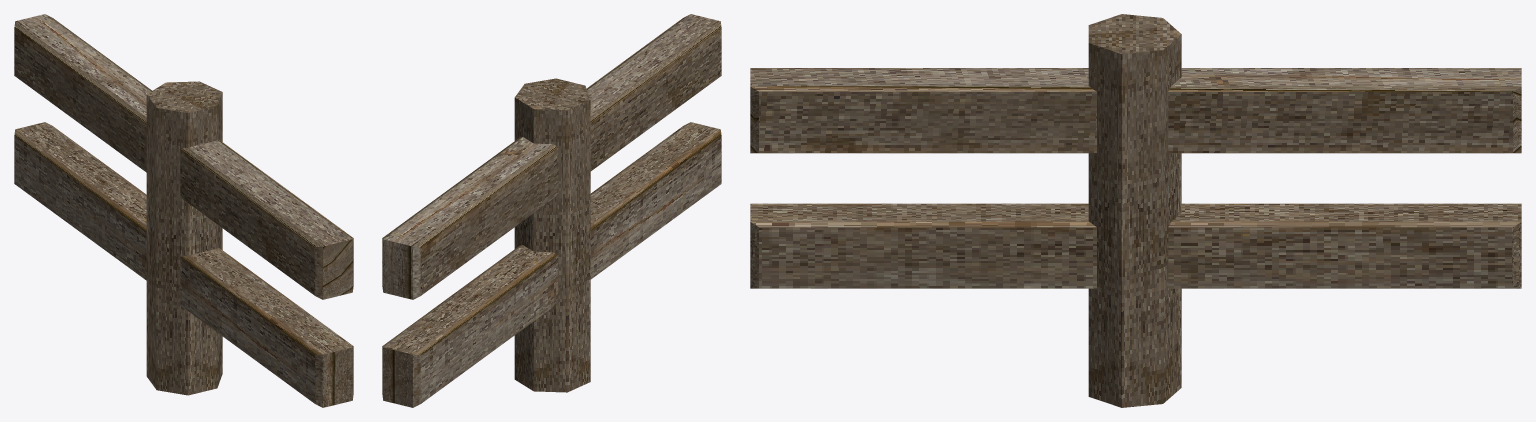
The model's file is fence_1_post.gltf.
3 views of the same model, side by side, from view 1: azimuth 30°, elevation 25°; view 2: azimuth 150°, elevation 25°; view 3: azimuth 270°, elevation 25° (orthographic). The views are drawn at different scales.
Visible parts, largest first — view 1: UpperBeam-col, LowerBeam-col, Post; view 2: UpperBeam-col, LowerBeam-col, Post; view 3: UpperBeam-col, LowerBeam-col, Post.
Boxes of the visible parts, x1,y1,x2,y2 form: UpperBeam-col: [14, 14, 353, 299]; LowerBeam-col: [14, 122, 353, 407]; Post: [146, 81, 222, 395]; UpperBeam-col: [382, 14, 721, 299]; LowerBeam-col: [382, 122, 721, 407]; Post: [514, 78, 590, 392]; UpperBeam-col: [750, 68, 1521, 153]; LowerBeam-col: [750, 203, 1521, 288]; Post: [1088, 14, 1181, 407].
Size of the model in its own units: 0.4875 by 2 by 3.95.
Materials: 1 (1 with a texture image).
